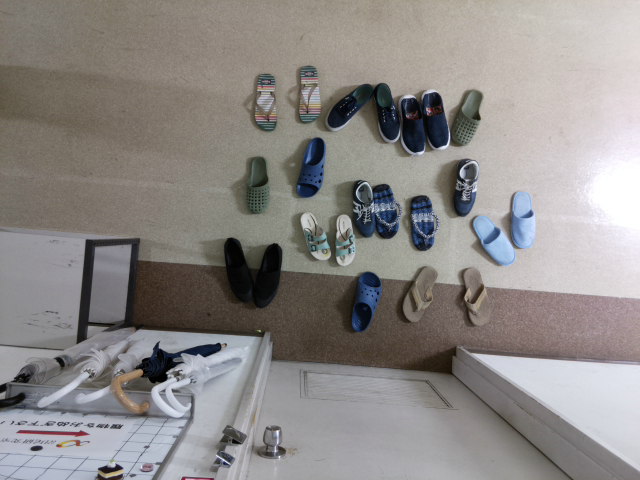Copy of Copy of Copy of Copy of Copy of Copy of Copy of Copy of Copy of Copy of: (319, 73, 383, 132), (466, 209, 522, 269), (448, 82, 492, 155), (501, 182, 543, 255), (364, 177, 408, 244), (366, 74, 403, 152), (393, 85, 430, 163), (402, 187, 445, 254), (417, 81, 454, 158), (447, 152, 485, 222), (346, 174, 382, 240)
Copy of Copy of Copy of Copy of Copy of Copy of Copy of Copy of Copy of shoe: (452, 263, 499, 333)
Copy of Copy of Copy of Copy of Copy of Copy of Copy of Copy of shoe: (396, 259, 444, 329), (326, 208, 366, 275)
Copy of Copy of Copy of Copy of Copy of Copy of Copy of shoe: (295, 204, 335, 270)
Copy of Copy of Copy of Copy of Copy of Copy of shoe: (291, 132, 331, 202)
Copy of Copy of Copy of Copy of Copy of shoe: (343, 264, 384, 334)
Copy of Copy of Copy of Copy of Copy of umbrella: (1, 313, 124, 410)
Copy of Copy of Copy of Copy of shoe: (248, 239, 289, 309)
Copy of Copy of Copy of Copy of umbrella: (32, 315, 156, 413)
Copy of Copy of Copy of shoe: (219, 234, 260, 303)
Copy of Copy of Copy of umbrella: (72, 323, 179, 413)
Copy of Copy of shoe: (238, 149, 278, 219)
Copy of Copy of umbrella: (103, 332, 236, 419)
Copy of shoe: (288, 59, 329, 129)
Copy of umbrella: (162, 339, 261, 424)
shoe: (245, 67, 286, 137)
umbrella: (142, 340, 260, 422)
